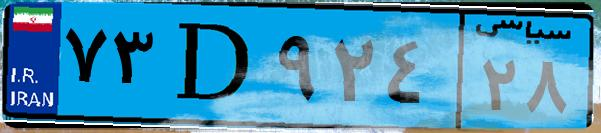2: (330, 28, 385, 110), (475, 38, 525, 113)
3: (110, 28, 158, 98)
4: (385, 28, 445, 110)
7: (57, 26, 110, 100)
8: (525, 38, 570, 115)
9: (270, 28, 330, 110)
D: (158, 12, 270, 120)
